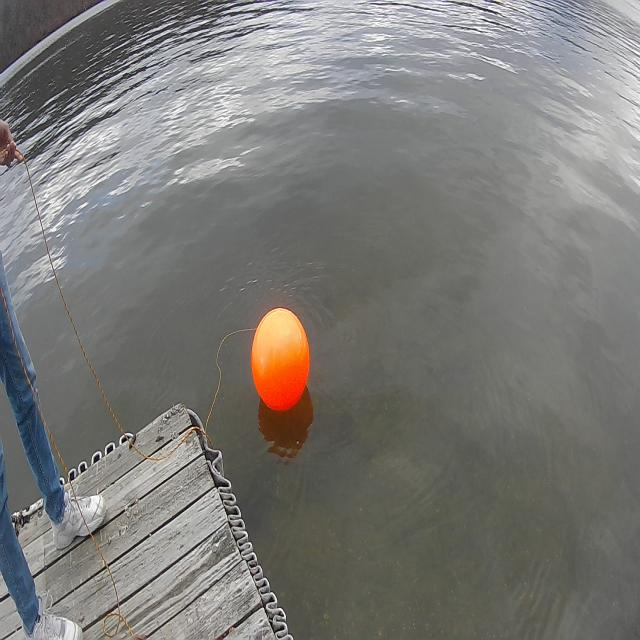Buoy: (252, 306, 310, 414)
